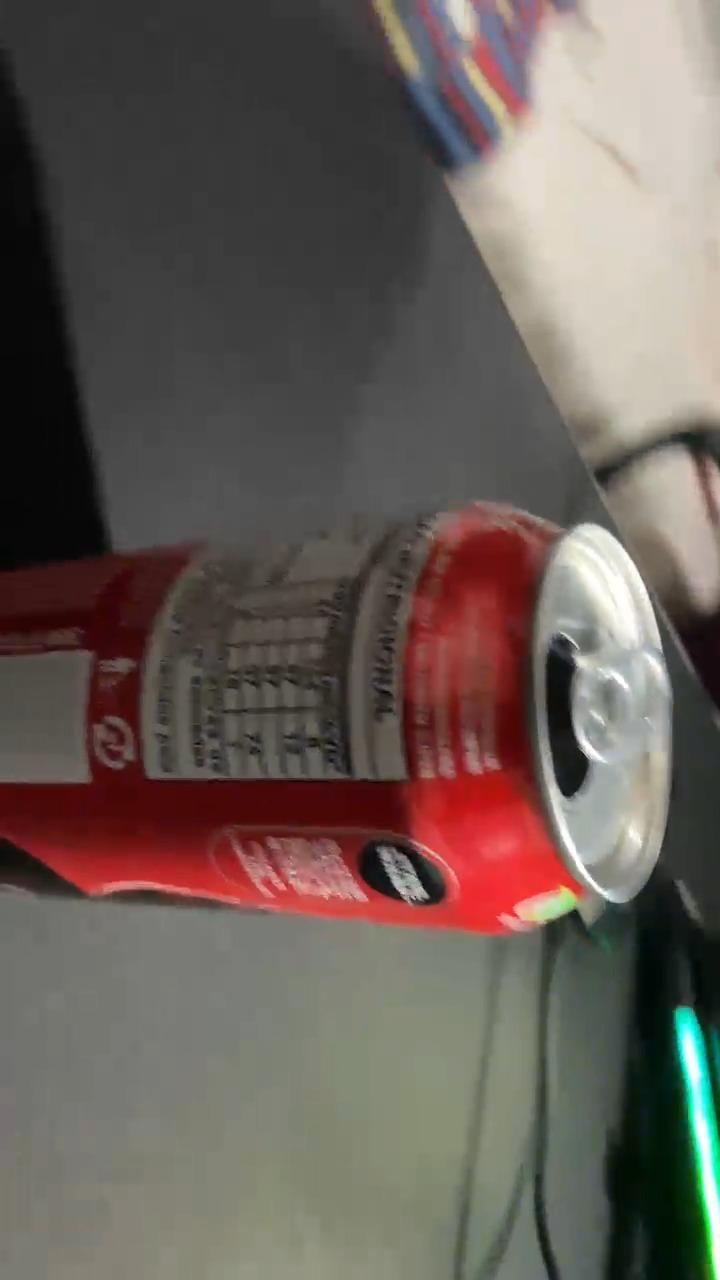coke: (0, 490, 685, 933)
